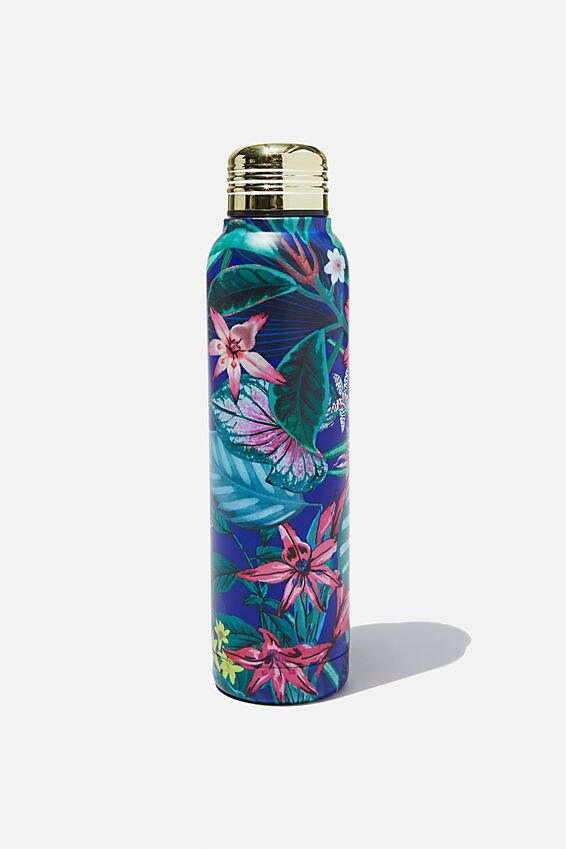metal: (203, 142, 354, 706)
